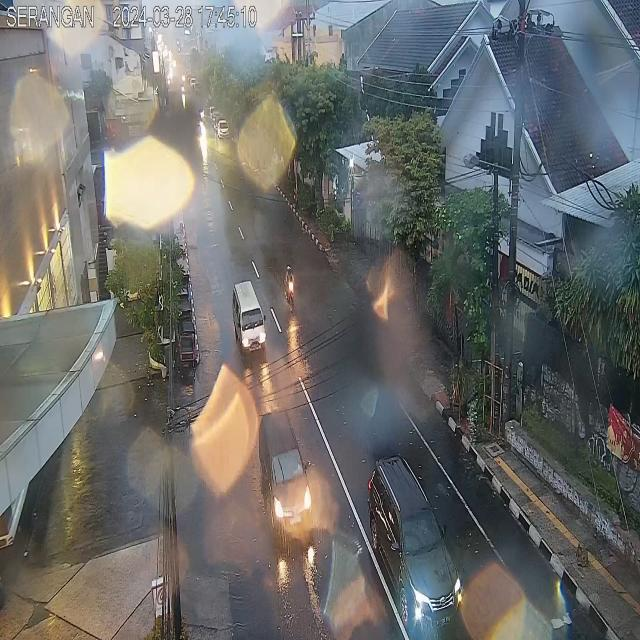car: (367, 450, 463, 640), (257, 406, 313, 548), (234, 280, 266, 358)
motorcycle: (284, 263, 295, 311)
